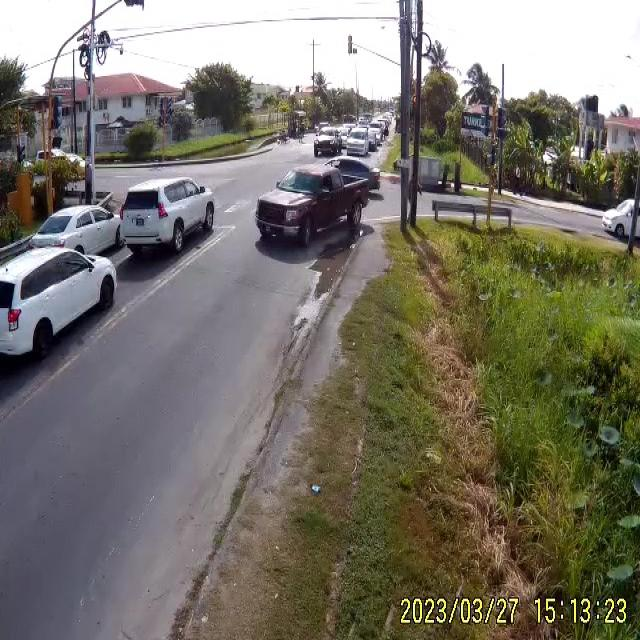car: (0, 243, 119, 372), (254, 166, 370, 248), (120, 174, 217, 259), (32, 205, 124, 255), (601, 200, 639, 242), (312, 133, 340, 157), (342, 131, 368, 155)
